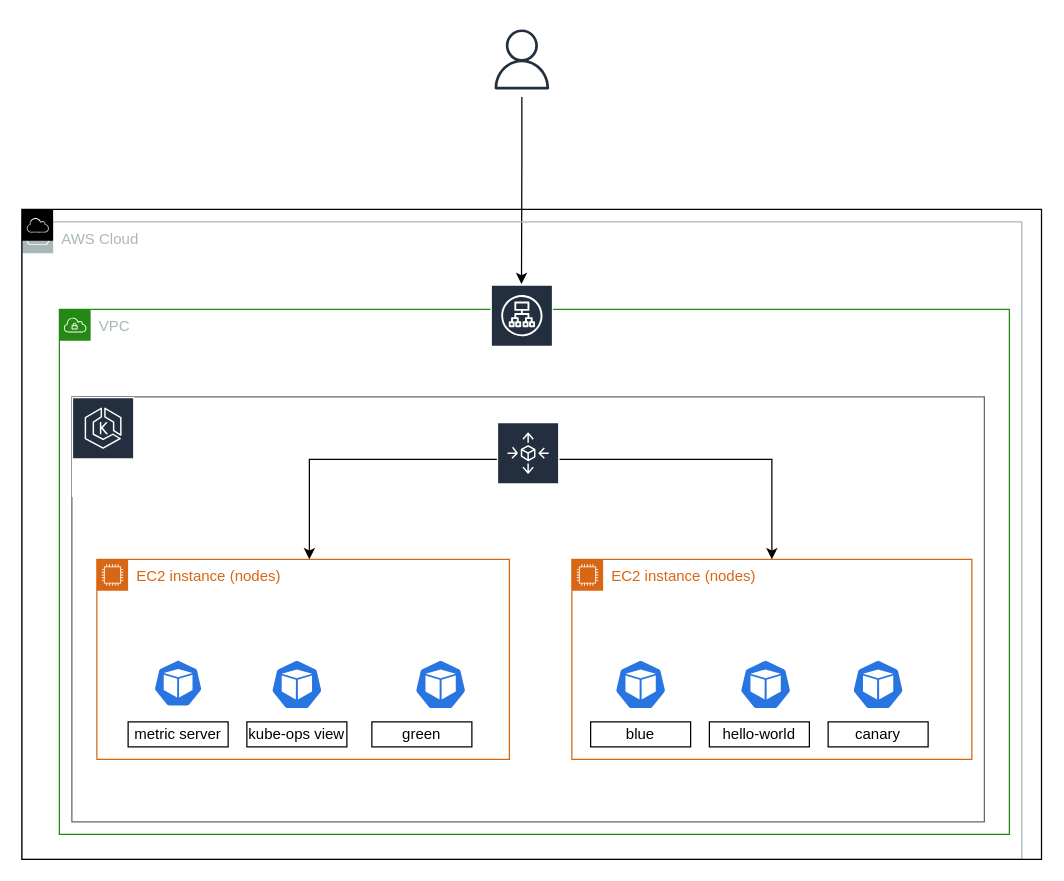
This 1064x881 diagram has some shape labels left out. The centre of each missing label's shape, as x and y in pixels:
"Amazon EKS" goes at point 102,446.
"AWS Auto Scaling" goes at point 527,477.
"Load Balancer" goes at point 521,333.
"User" goes at point 521,59.
